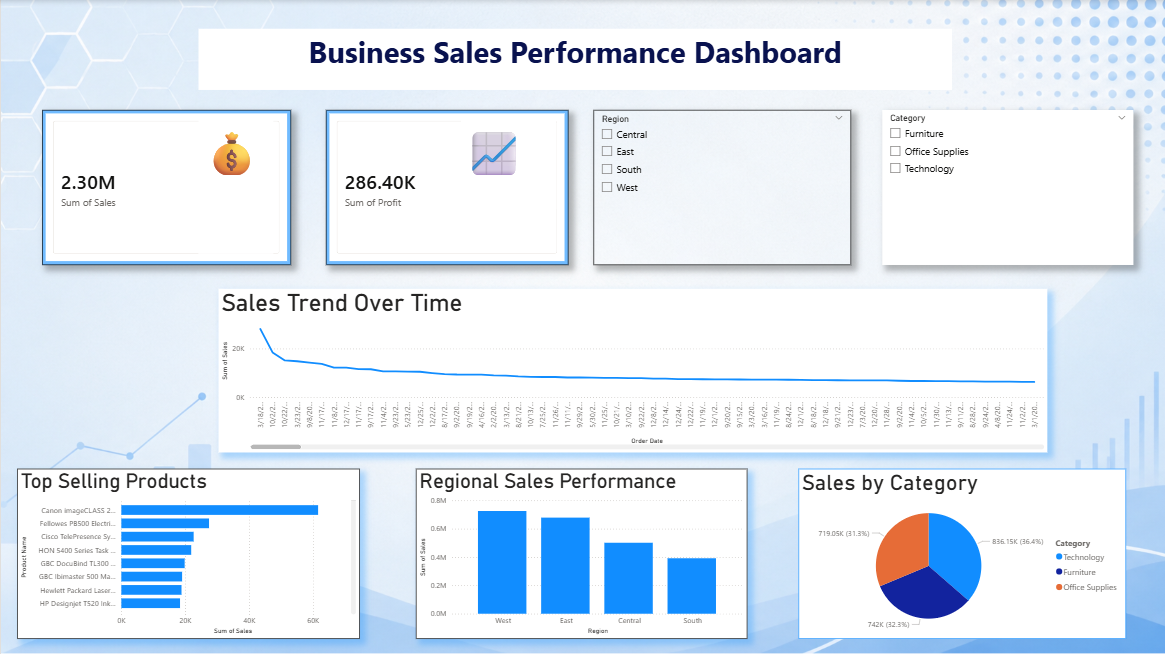

This screenshot's page, from the dashboard's own definition file:
{"tool":"powerbi","page":{"name":"Page 1","canvas":[1920,1080],"ordinal":0},"visuals":[{"type":"cardVisual","fields":{"Data":["Sum(Sample___Superstore.Sales)"]},"box":[67.9,181.1,409.6,255.2],"z":0},{"type":"lineChart","title":"Sales Trend Over Time","fields":{"Y":["Sum(Sample___Superstore.Sales)"],"Category":["Sample___Superstore.Order Date"]},"box":[358.1,475.5,1364.7,269.6],"z":1000},{"type":"clusteredBarChart","title":"Top Selling Products","fields":{"Y":["Sum(Sample___Superstore.Sales)"],"Category":["Sample___Superstore.Product Name"]},"box":[26.8,771.9,564,279.9],"z":2000},{"type":"cardVisual","fields":{"Data":["Sum(Sample___Superstore.Profit)"]},"box":[535.2,181.1,399.3,255.2],"z":3000},{"type":"pieChart","title":"Sales by Category","fields":{"Category":["Sample___Superstore.Category"],"Y":["Sum(Sample___Superstore.Sales)"]},"box":[1313.2,771.9,539.3,279.9],"z":4000},{"type":"clusteredColumnChart","title":"Regional Sales Performance","fields":{"Category":["Sample___Superstore.Region"],"Y":["Sum(Sample___Superstore.Sales)"]},"box":[683.4,771.9,545.5,279.9],"z":5000},{"type":"textbox","box":[325.2,47.3,1241.2,100.9],"z":6000},{"type":"slicer","fields":{"Values":["Sample___Superstore.Region"]},"box":[975.6,181.1,424,255.2],"z":7000},{"type":"slicer","fields":{"Values":["Sample___Superstore.Category"]},"box":[1451.1,181.1,413.7,255.2],"z":8000},{"type":"textbox","box":[325.2,195.5,123.5,222.3],"z":9000},{"type":"textbox","box":[757.5,195.5,156.4,148.2],"z":10000}]}

Visuals, with their boxes in screenshot pixels (x1, y1, x2, y2), scaled from the page's 1920x1080 canvas onto the 1165x654 screenshot:
cardVisual - Sum(Sample___Superstore.Sales): (41, 110, 290, 264)
"Sales Trend Over Time" lineChart: (217, 288, 1045, 451)
"Top Selling Products" clusteredBarChart: (16, 467, 358, 637)
cardVisual - Sum(Sample___Superstore.Profit): (325, 110, 567, 264)
"Sales by Category" pieChart: (797, 467, 1124, 637)
"Regional Sales Performance" clusteredColumnChart: (415, 467, 746, 637)
textbox: (197, 29, 950, 90)
slicer - Sample___Superstore.Region: (592, 110, 849, 264)
slicer - Sample___Superstore.Category: (880, 110, 1132, 264)
textbox: (197, 118, 272, 253)
textbox: (460, 118, 555, 208)
